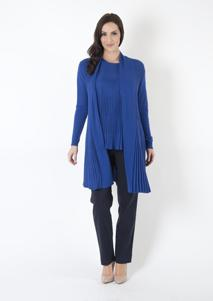C_cardigan sweater: (71, 51, 159, 196)
